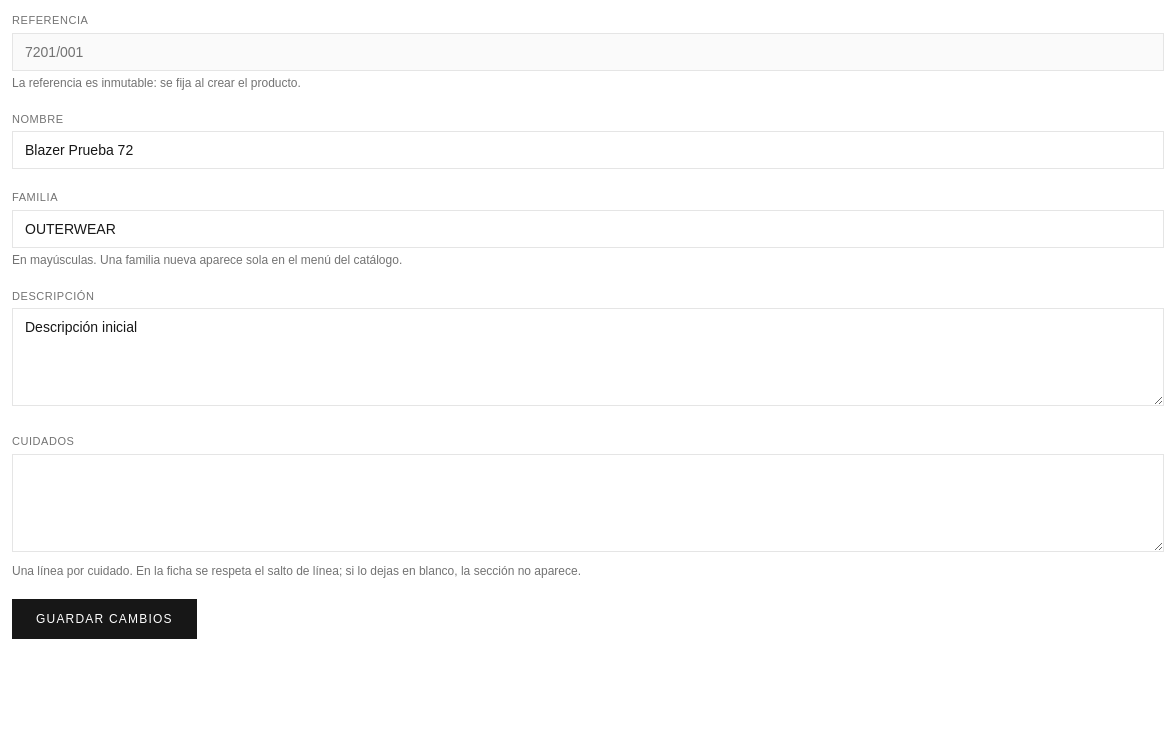
Scenario: AdminProductForm › modo edición: referencia deshabilitada y PUT sin referenceCode (R2.4)
Expected: the field labelled "Referencia" is disabled, [12, 32, 1164, 70]
Replace the text in the field labelled "Nombre" with "Blazer Nuevo" at coordinates (588, 150), box [12, 131, 1164, 169]
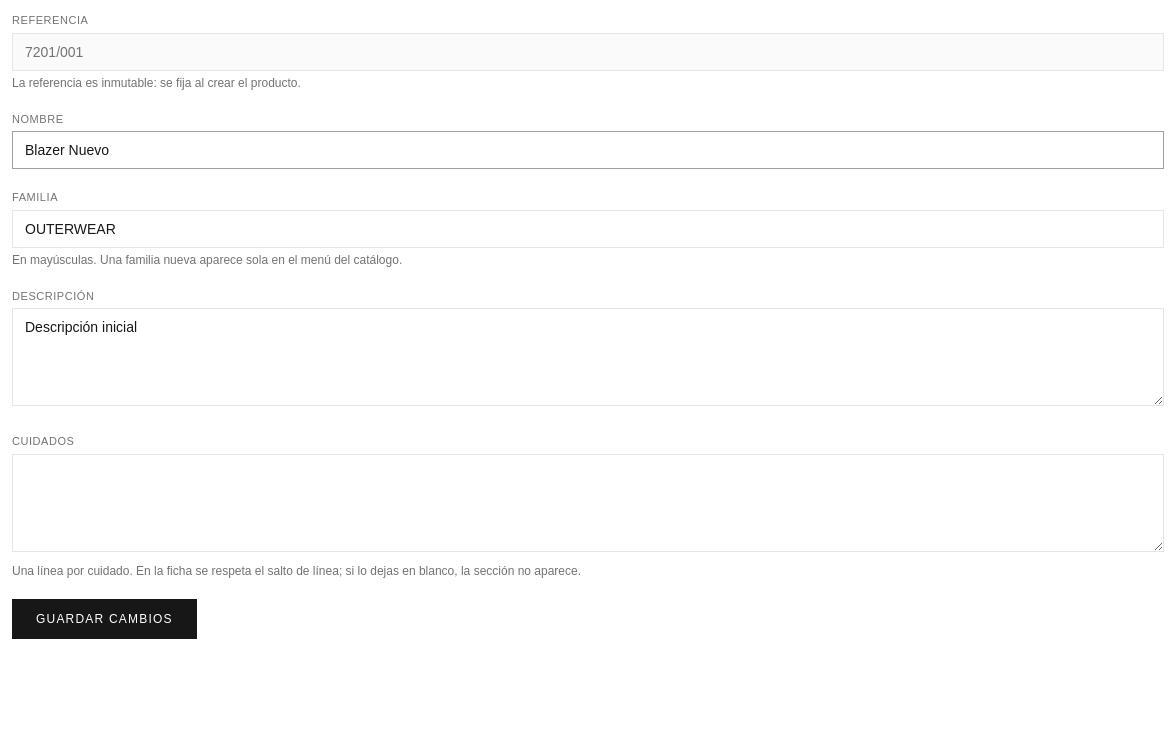
Click the button "Guardar cambios" at coordinates (104, 618), box [12, 598, 197, 638]
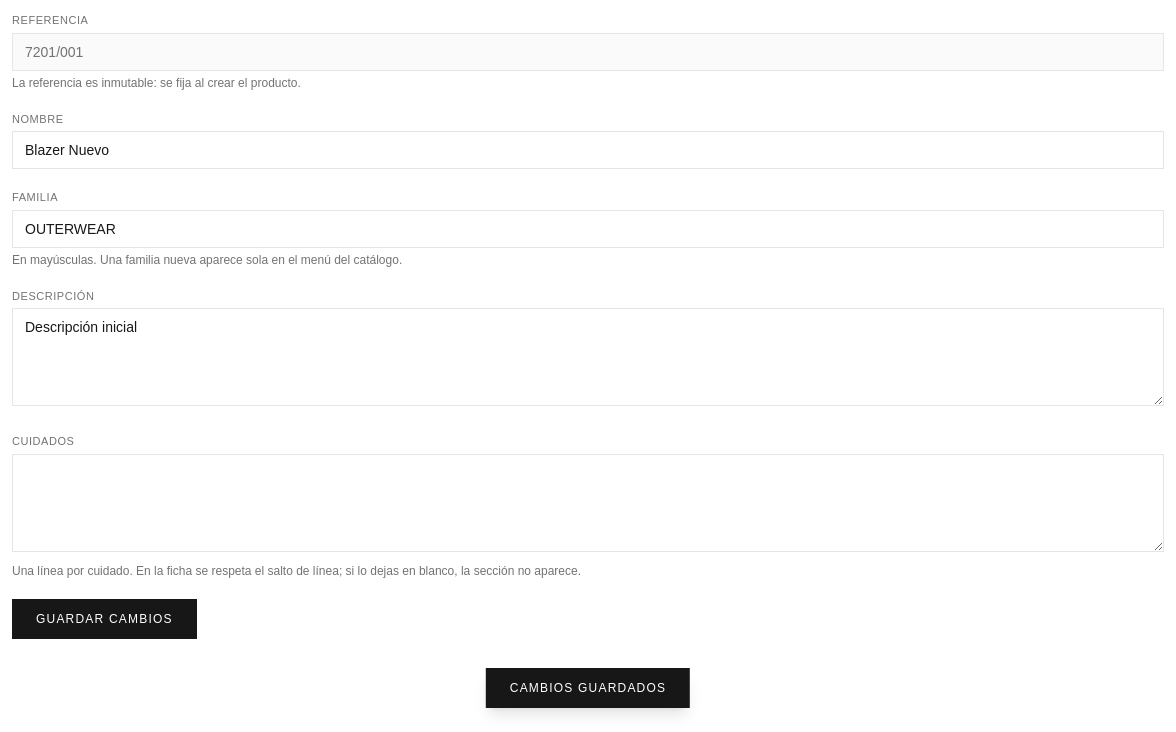
Now the text "Cambios guardados" is shown, box [486, 668, 690, 708]
